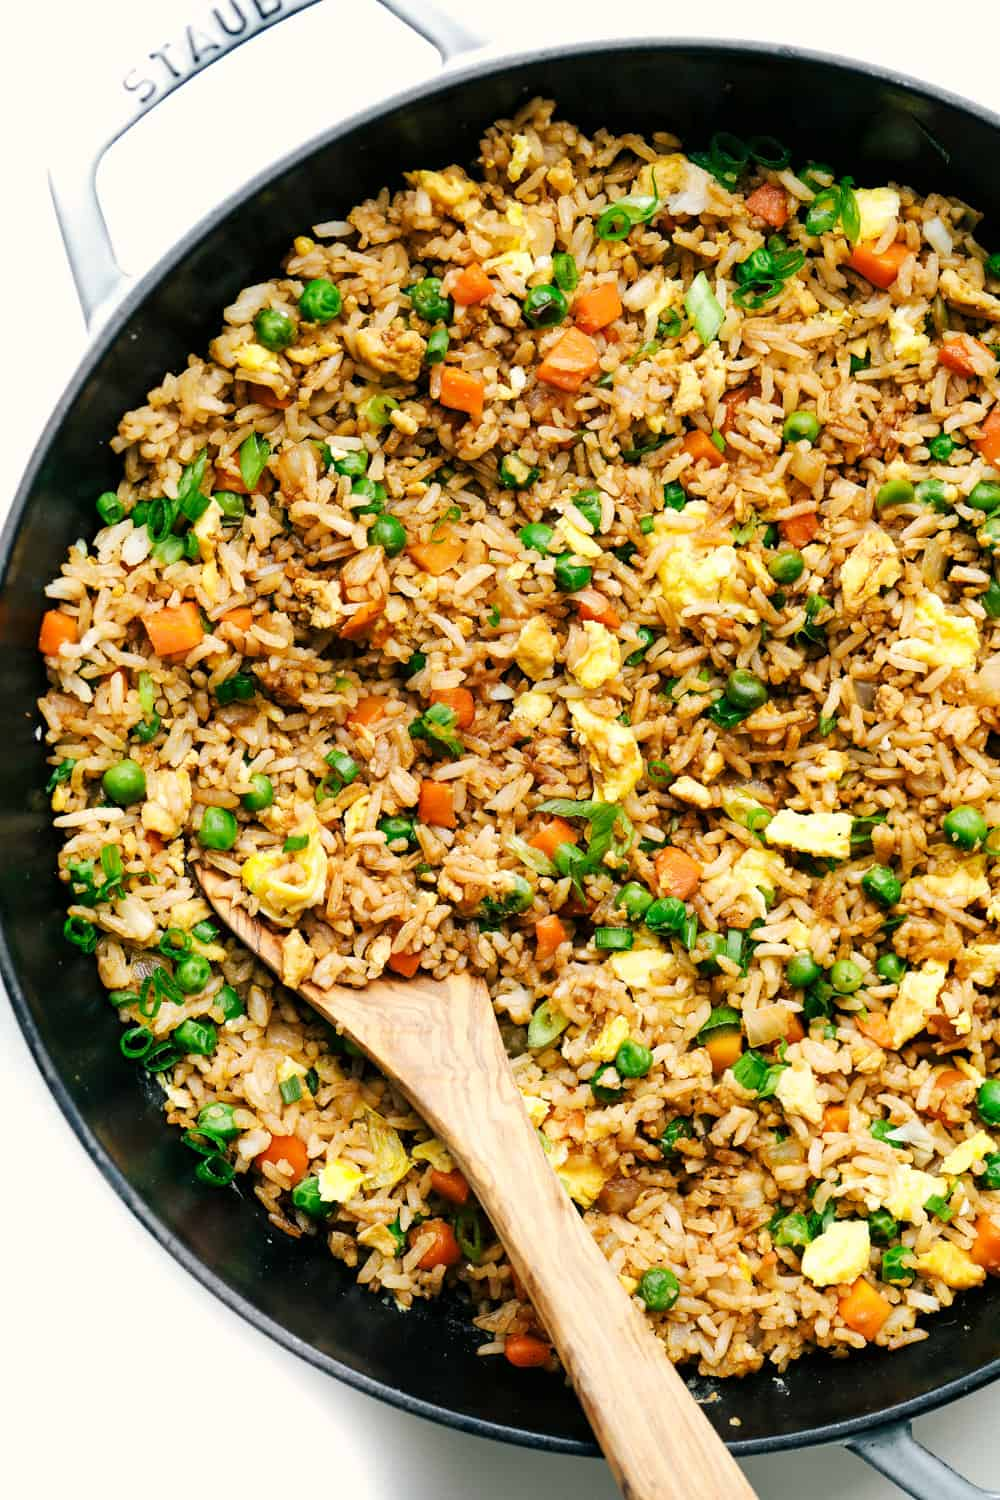rice: (268, 267, 999, 1273)
